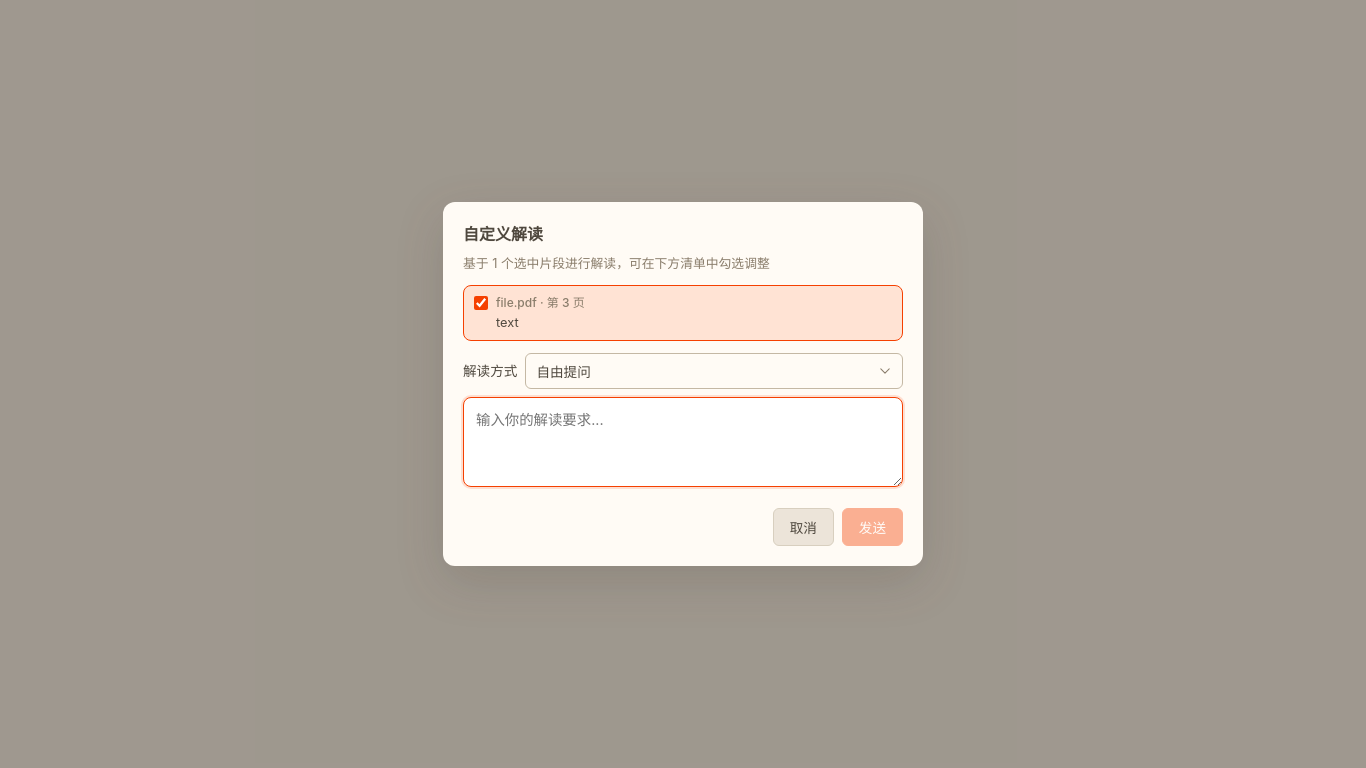
Test: CustomInterpretModal › flips the select back to custom when the preset text is edited
The width and height of the screenshot is (1366, 768).
Click the button "自由提问" at (564, 372), box [525, 353, 903, 389]
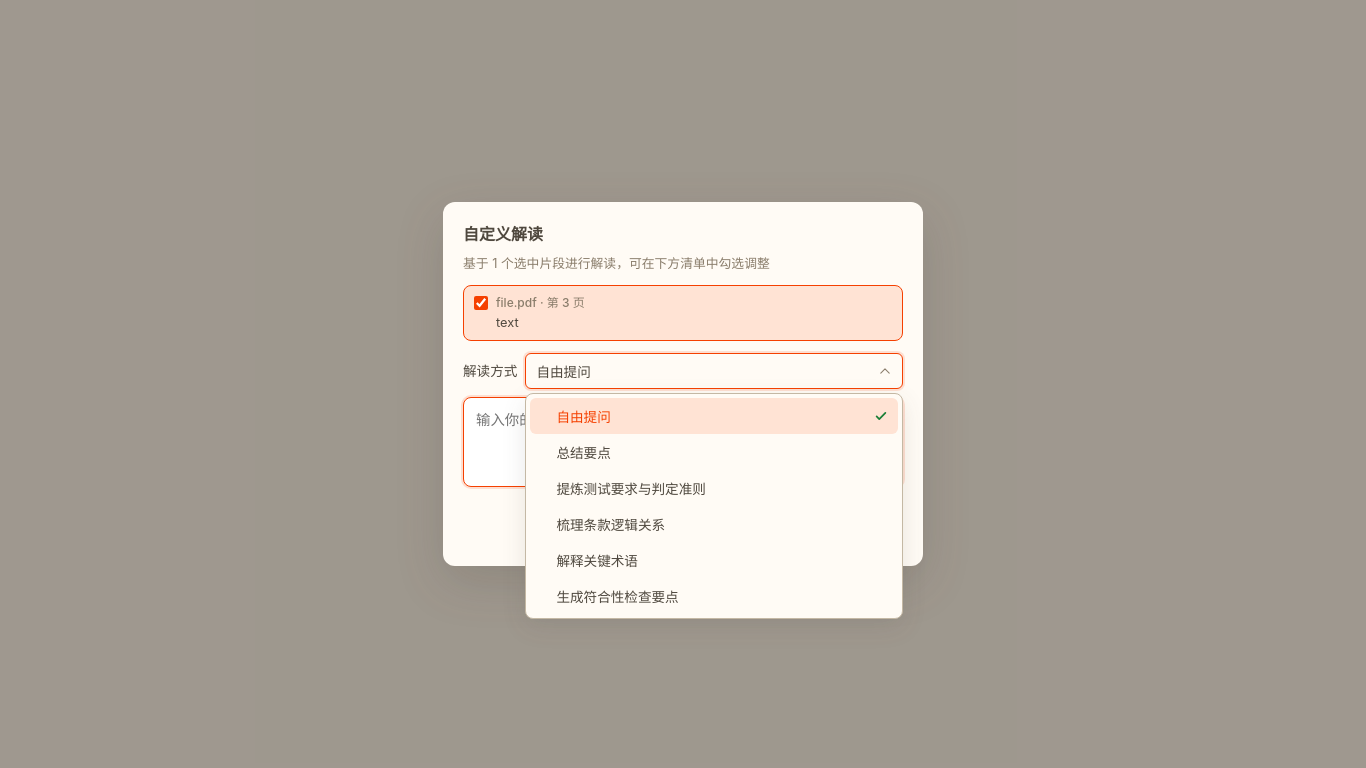
Click the option "总结要点" at (584, 453), box [530, 434, 898, 470]
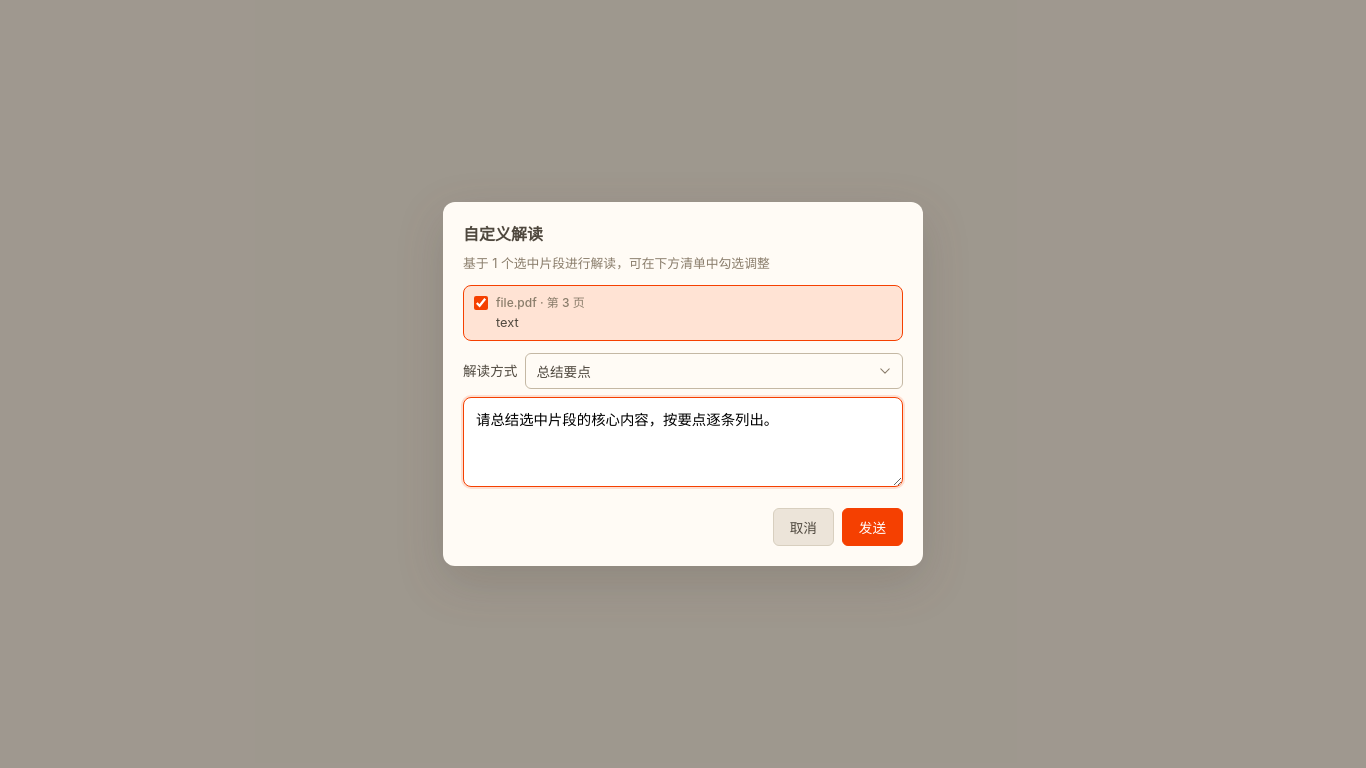
Check: the button "总结要点" is shown, box [525, 353, 903, 389]
Replace the text in the text box with placeholder "输入你的解读要求..." with "改过的要求" at (683, 442), box [463, 397, 903, 487]
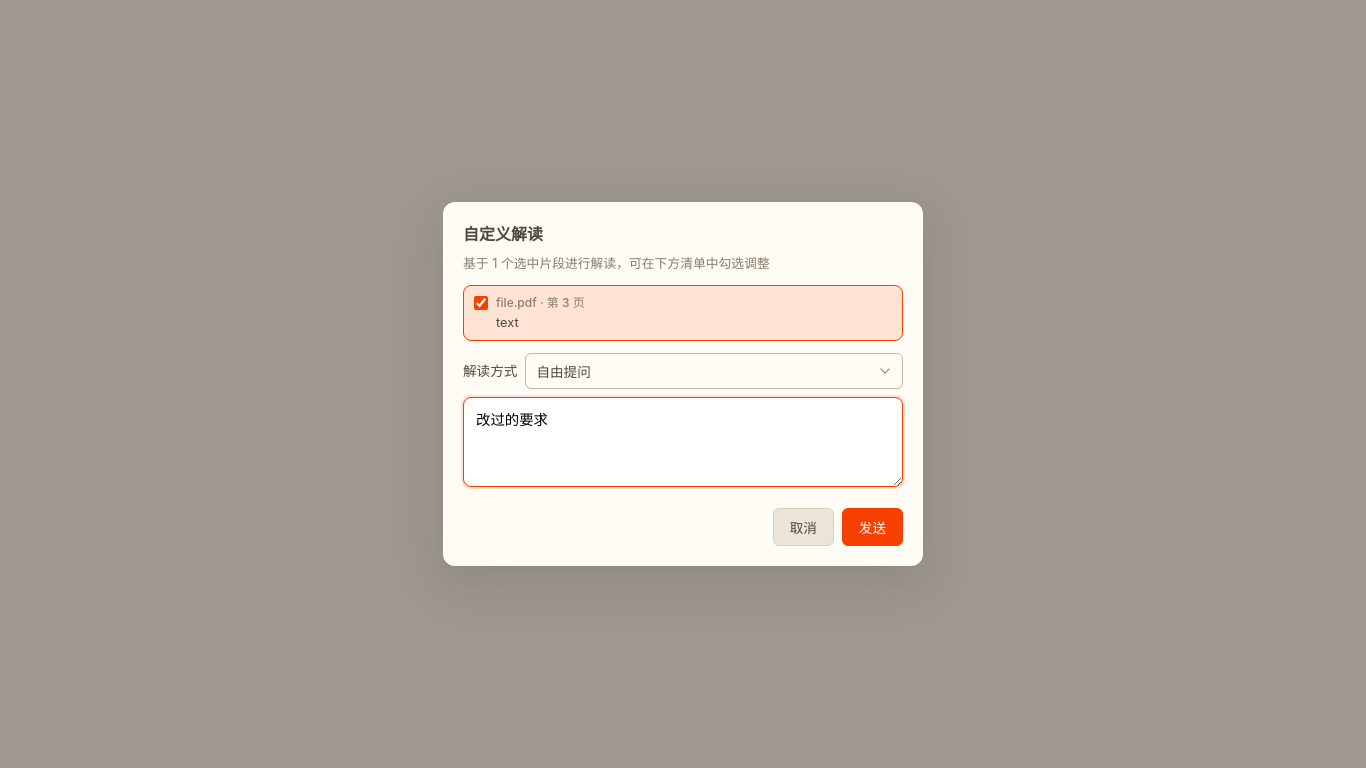
Check: the button "自由提问" is shown, box [525, 353, 903, 389]
